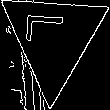L_E: (30, 22, 77, 55)
